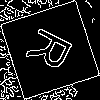R: (25, 25, 82, 78)
